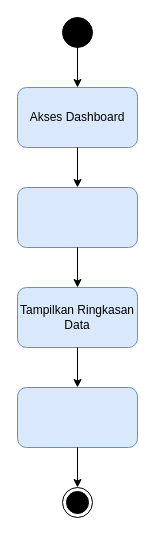
The diagram is 155 pixels wide and 535 high, and some of its shapes have lost their labels. The box of each missing label's shape, as (x1, y1, x2, y2) in pixels:
Pilih Menu di Sidebar: (16, 386, 138, 448)
Sistem Hitung Statistik: (16, 186, 138, 248)
